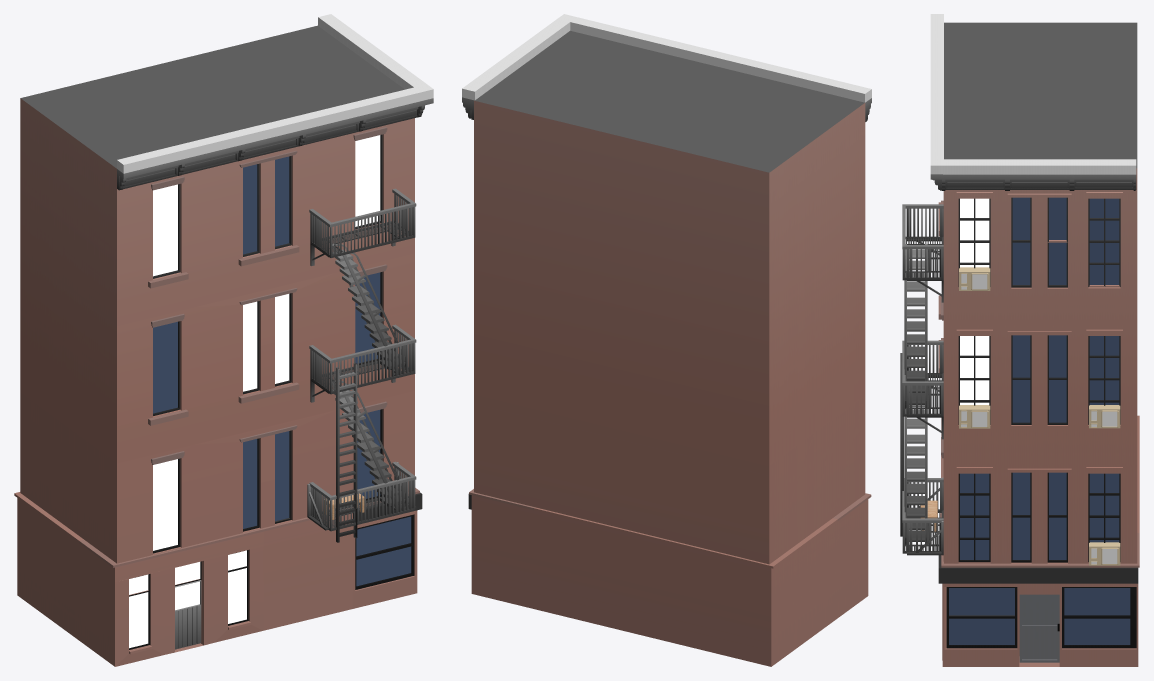
File: edificio_2.glb
The picture shows the model from 3 angles, left to right: view 1: azimuth 30°, elevation 25°; view 2: azimuth 150°, elevation 25°; view 3: azimuth 270°, elevation 25°; orthographic projection.
Parts seen in each view (by area): view 1: Cubo.044, Cubo.064, Cubo.060, Cubo.053, Cubo.046, Escaleras de mano, Cubo.062, Escaleras.001, Cubo.045, Escaleras; view 2: Cubo.044, Cubo.064, Cubo.062; view 3: Cubo.044, Cubo.062, Puerta.001, Cubo.060, Escaleras.001, Cubo.064, Escaleras, Cubo.053, Cubo.046, aire acondicionado1.002, aire acondicionado1.008, aire acondicionado1.001 (+3 smaller).
Part boxes in pixels (x1=…): Cubo.044: x1=14, y1=25, x2=422, y2=666; Cubo.064: x1=117, y1=84, x2=433, y2=189; Cubo.060: x1=309, y1=188, x2=416, y2=257; Cubo.053: x1=309, y1=324, x2=416, y2=394; Cubo.046: x1=309, y1=461, x2=416, y2=531; Escaleras de mano: x1=336, y1=363, x2=357, y2=542; Cubo.062: x1=318, y1=14, x2=426, y2=89; Escaleras.001: x1=332, y1=243, x2=405, y2=374; Cubo.045: x1=175, y1=580, x2=201, y2=649; Escaleras: x1=332, y1=381, x2=405, y2=511; Cubo.044: x1=468, y1=30, x2=871, y2=666; Cubo.064: x1=557, y1=14, x2=871, y2=121; Cubo.062: x1=462, y1=19, x2=570, y2=119; Cubo.044: x1=938, y1=22, x2=1139, y2=666; Cubo.062: x1=943, y1=159, x2=1136, y2=189; Puerta.001: x1=1019, y1=594, x2=1059, y2=662; Cubo.060: x1=902, y1=204, x2=943, y2=280; Escaleras.001: x1=904, y1=244, x2=927, y2=408; Cubo.064: x1=930, y1=14, x2=943, y2=190; Escaleras: x1=904, y1=405, x2=927, y2=545; Cubo.053: x1=902, y1=340, x2=943, y2=416; Cubo.046: x1=902, y1=478, x2=943, y2=553; aire acondicionado1.002: x1=959, y1=405, x2=990, y2=428; aire acondicionado1.008: x1=1089, y1=542, x2=1120, y2=565; aire acondicionado1.001: x1=1089, y1=405, x2=1120, y2=428.
Size of the model in its own units: 8.66 by 13.27 by 5.69.
8 materials, 4 textured.
